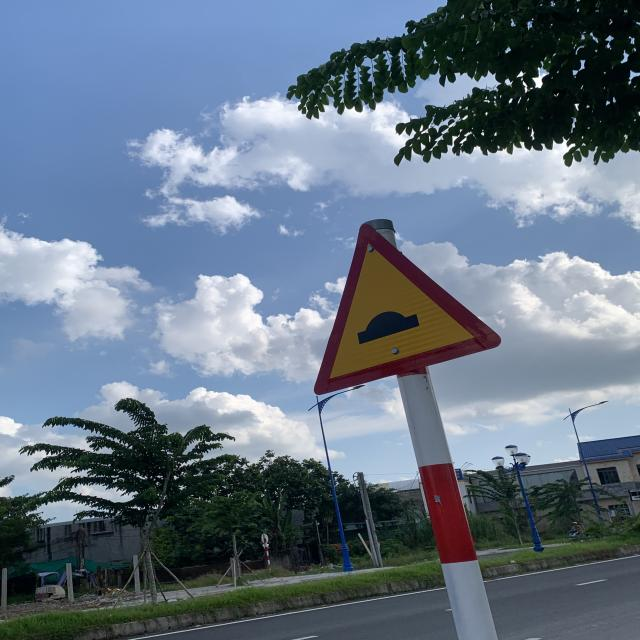Duong_Cong_Ben_Phai: (318, 229, 504, 396)
